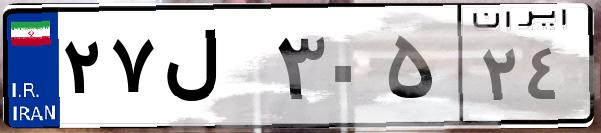0: (330, 28, 385, 110)
2: (57, 26, 110, 100), (475, 38, 525, 113)
3: (270, 28, 330, 110)
4: (525, 38, 570, 115)
5: (385, 28, 445, 110)
7: (110, 28, 158, 98)
ل: (158, 20, 270, 120)
